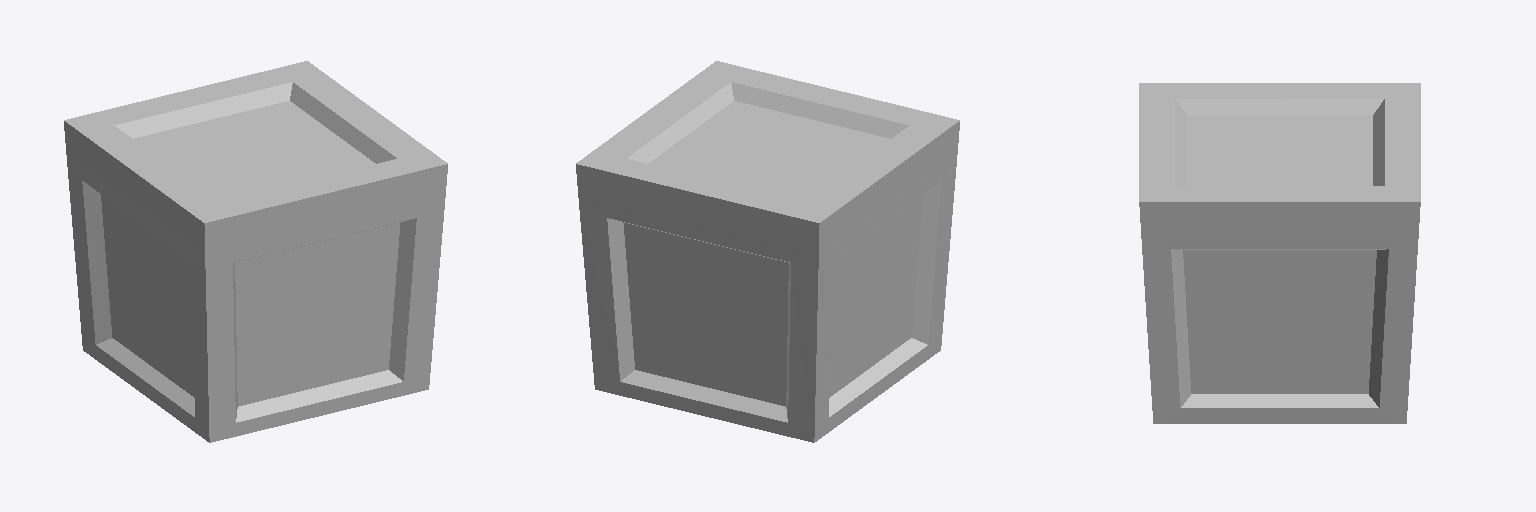
Rendered from MysteryBox.obj.
3 views of the same model, side by side, from view 1: azimuth 30°, elevation 25°; view 2: azimuth 150°, elevation 25°; view 3: azimuth 270°, elevation 25° (orthographic).
Parts seen in each view (by area): view 1: 2, 1; view 2: 2, 1; view 3: 2, 1.
Part boxes in pixels (left/top/right/bottom): 2: left=67, top=156, right=444, bottom=442; 1: left=64, top=61, right=447, bottom=255; 2: left=579, top=156, right=956, bottom=442; 1: left=576, top=61, right=959, bottom=255; 2: left=1141, top=235, right=1418, bottom=423; 1: left=1139, top=83, right=1420, bottom=234.
Size of the model in its own units: 0.2274 by 0.203 by 0.2274.